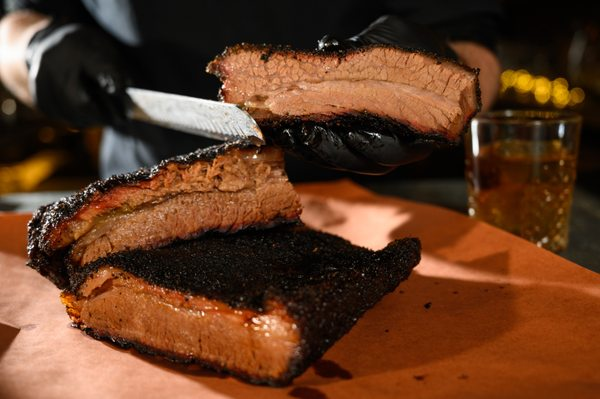pizza: (463, 109, 584, 253)
soup: (26, 141, 424, 385)
